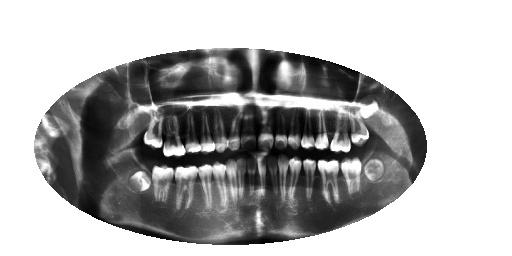i10healthy: (234, 156, 248, 207)
i11healthy: (222, 157, 237, 210)
i12healthy: (209, 156, 229, 215)
i13healthy: (195, 162, 214, 218)
i14healthy: (172, 162, 199, 216)
i15healthy: (149, 159, 176, 209)
i16healthy: (123, 162, 154, 199)
i1healthy: (361, 156, 388, 188)
i2healthy: (334, 154, 367, 200)
i3healthy: (316, 153, 345, 208)
i4healthy: (300, 154, 319, 203)
i5healthy: (286, 154, 302, 206)
i6healthy: (274, 151, 290, 209)
i7decay: (263, 151, 280, 208)
i8healthy: (255, 154, 267, 205)
i9decay: (245, 155, 258, 204)
u11healthy: (223, 106, 245, 153)
u12healthy: (206, 107, 231, 156)
u13healthy: (194, 106, 218, 155)
u14healthy: (182, 104, 203, 158)
u15healthy: (158, 109, 188, 160)
u16healthy: (137, 104, 166, 151)
u1healthy: (353, 90, 385, 128)
u2healthy: (344, 100, 372, 148)
u3healthy: (325, 108, 355, 156)
u4healthy: (312, 106, 331, 154)
u5healthy: (298, 104, 317, 151)
u6healthy: (285, 105, 303, 153)
u7decay: (271, 104, 290, 152)
u8healthy: (252, 104, 276, 153)
u9decay: (235, 103, 257, 153)
